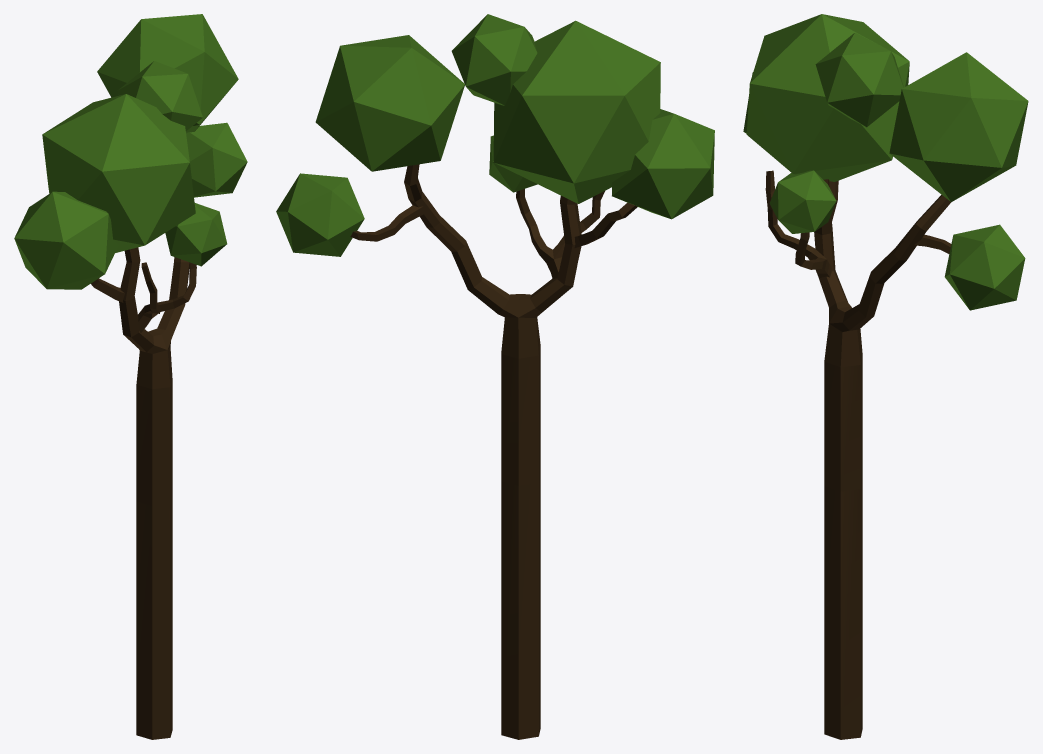
The model's file is forest_tree.obj.
The picture shows the model from 3 angles, left to right: view 1: azimuth 30°, elevation 25°; view 2: azimuth 150°, elevation 25°; view 3: azimuth 270°, elevation 25°; orthographic projection. The views are drawn at different scales.
Parts seen in each view (by area): view 1: Tree_lp_11; view 2: Tree_lp_11; view 3: Tree_lp_11.
Part boxes in pixels (bbox=[...]): Tree_lp_11: bbox=[14, 14, 247, 739]; Tree_lp_11: bbox=[276, 14, 714, 739]; Tree_lp_11: bbox=[743, 14, 1028, 739].
Size of the model in its own units: 27.98 by 56.54 by 20.8.
